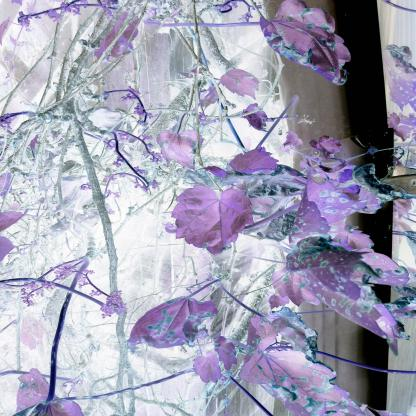grape leaf black rot: (246, 314, 342, 407), (257, 4, 359, 91), (101, 294, 227, 357), (167, 186, 255, 257), (283, 233, 375, 299), (280, 176, 362, 243), (274, 304, 321, 360), (156, 129, 203, 173), (220, 65, 263, 105)
